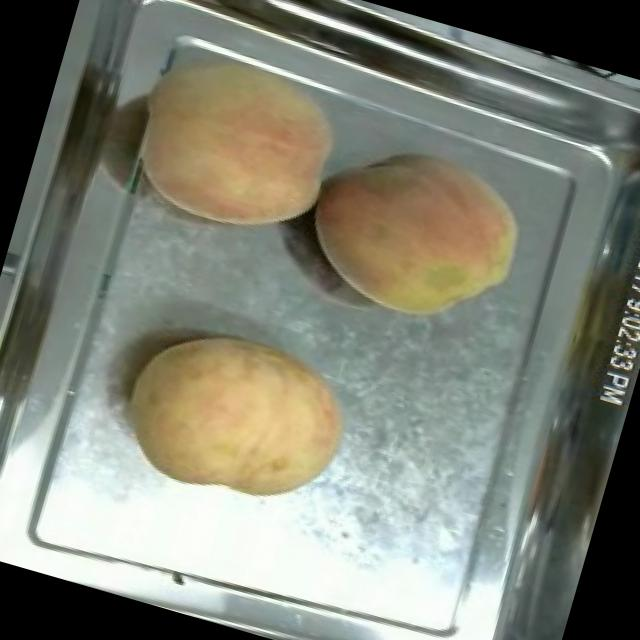Fruit: (112, 17, 370, 259), (104, 301, 370, 529), (288, 117, 546, 350)
